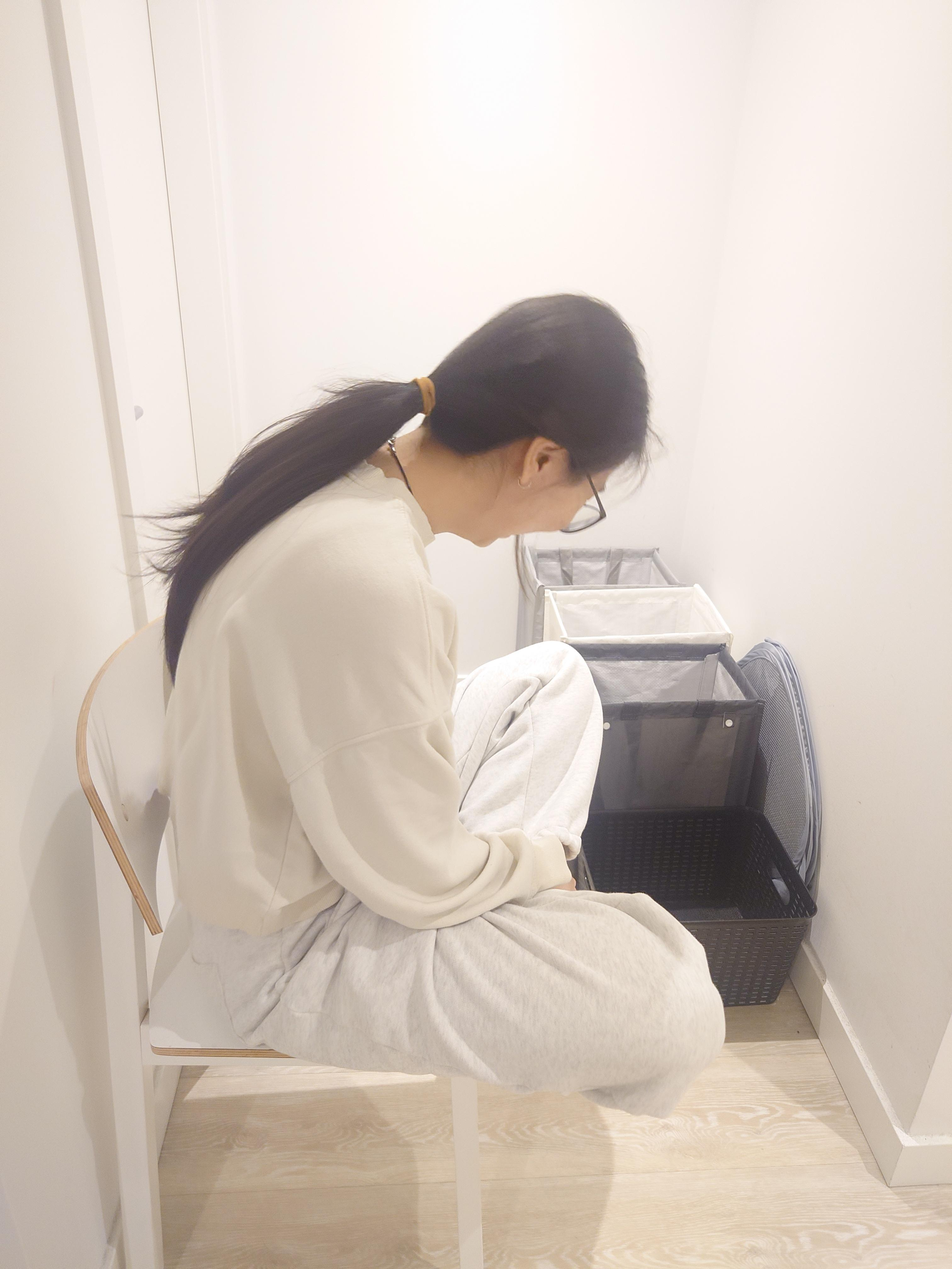BadPosture: (124, 291, 727, 1120)
